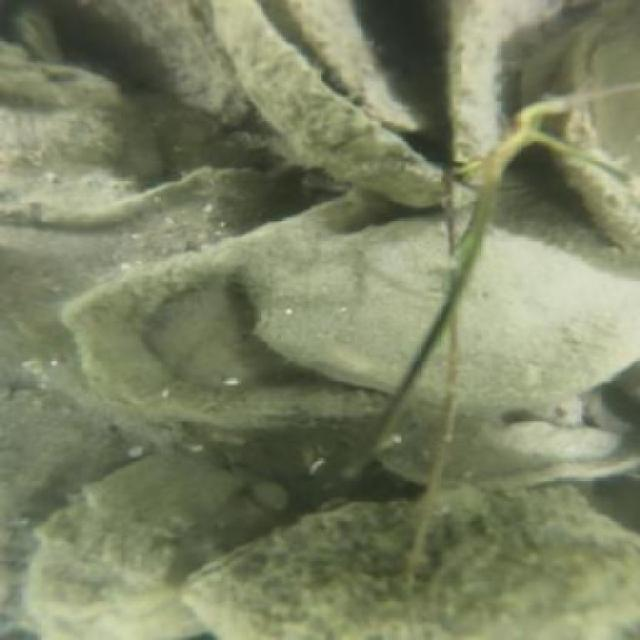Oyster-Closed: (497, 412, 618, 454)
Oyster-Indeterminate: (58, 183, 454, 426), (243, 212, 638, 409), (164, 487, 634, 638), (20, 450, 303, 638), (42, 0, 248, 136), (4, 45, 148, 210), (279, 2, 436, 140)
Oyster-Open: (214, 0, 504, 207)
